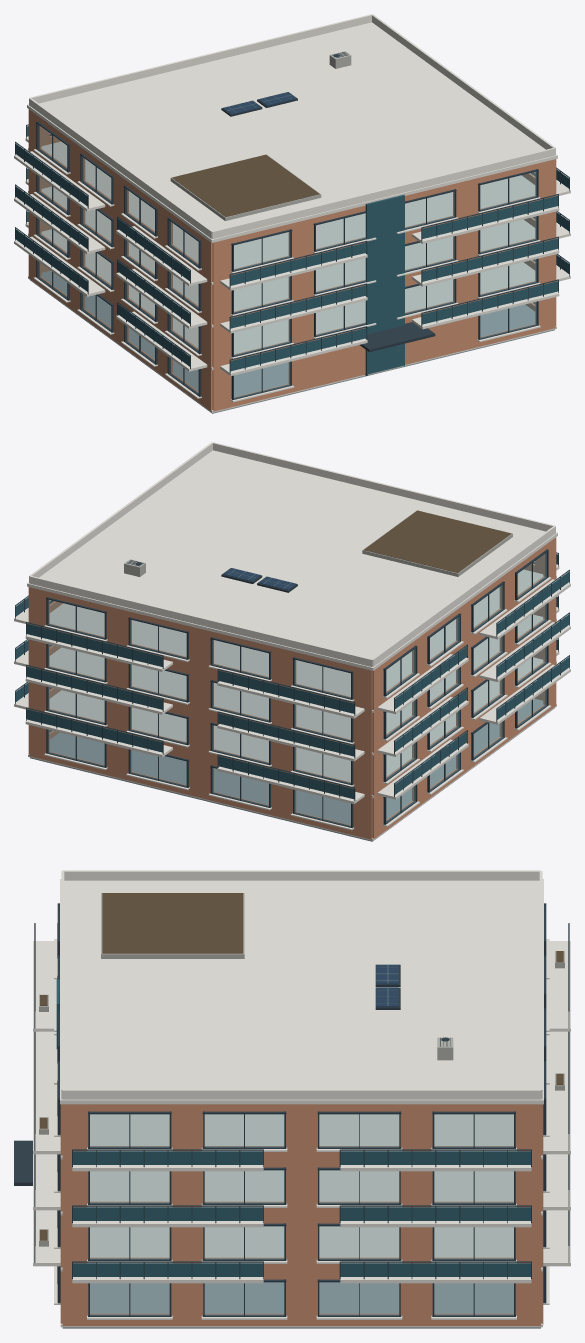
Rendered from Apartment_1.fbx.
3 views of the same model, one above another, from view 1: azimuth 30°, elevation 25°; view 2: azimuth 150°, elevation 25°; view 3: azimuth 270°, elevation 25° (orthographic). The views are drawn at different scales.
Parts seen in each view (by area): view 1: Apartment_1.015; view 2: Apartment_1.015; view 3: Apartment_1.015.
Boxes of the visible parts, box(x1,y1,x2,y2) form: Apartment_1.015: box(14, 14, 570, 413); Apartment_1.015: box(14, 442, 570, 841); Apartment_1.015: box(14, 870, 570, 1328).
Bounding box in the file's own units: 29 × 13.47 × 27.95.
